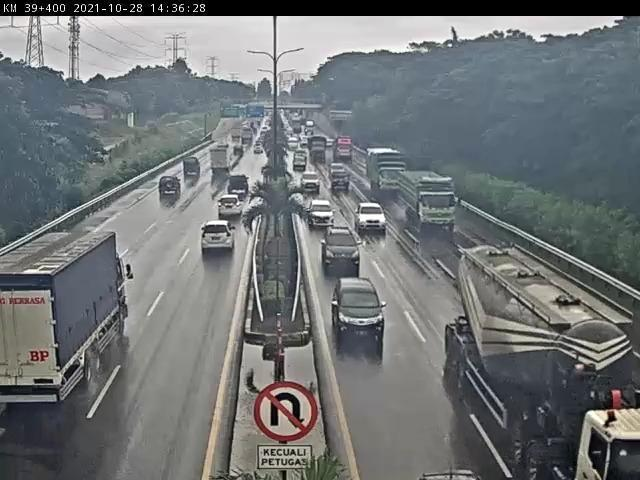car: (334, 279, 389, 344), (321, 229, 363, 274), (200, 220, 236, 255), (357, 200, 389, 234), (309, 201, 337, 229), (226, 173, 253, 197), (157, 176, 182, 199), (218, 196, 242, 219), (332, 170, 352, 193), (301, 171, 322, 192), (184, 154, 203, 176), (292, 156, 310, 172), (330, 161, 349, 175)
truck: (448, 245, 640, 480), (1, 224, 129, 404), (402, 171, 460, 232), (369, 148, 409, 196), (208, 147, 232, 176)
